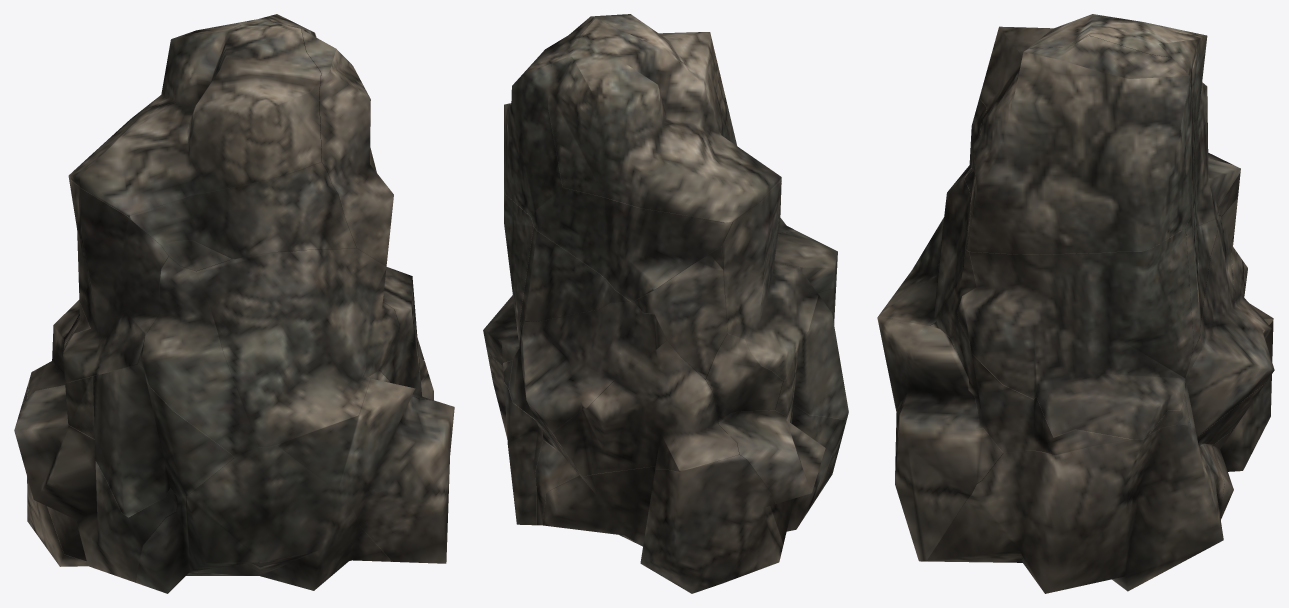
Rendered from Broke_Clif_rock_01.fbx.
The picture shows the model from 3 angles, left to right: view 1: azimuth 30°, elevation 25°; view 2: azimuth 150°, elevation 25°; view 3: azimuth 270°, elevation 25°; orthographic projection. The views are drawn at different scales.
Visible parts, largest first — view 1: Clif_rock_023, Clif_rock_029, Clif_rock_022, Clif_rock_011, Clif_rock_024, Clif_rock_015, Clif_rock_019, Clif_rock_032, Clif_rock_06, Clif_rock_010, Clif_rock_09, Clif_rock_012 (+4 smaller); view 2: Clif_rock_023, Clif_rock_018, Clif_rock_028, Clif_rock_021, Clif_rock_034, Clif_rock_019, Clif_rock_024, Clif_rock_010, Clif_rock_016, Clif_rock_025, Clif_rock_015, Clif_rock_031 (+4 smaller); view 3: Clif_rock_010, Clif_rock_030, Clif_rock_014, Clif_rock_011, Clif_rock_021, Clif_rock_023, Clif_rock_012, Clif_rock_029, Clif_rock_018, Clif_rock_034, Clif_rock_028, Clif_rock_025 (+3 smaller).
Boxes of the visible parts, left/top/right/bottom form: Clif_rock_023: left=69, top=17, right=321, bottom=215; Clif_rock_029: left=196, top=248, right=386, bottom=447; Clif_rock_022: left=136, top=445, right=391, bottom=593; Clif_rock_011: left=278, top=370, right=454, bottom=563; Clif_rock_024: left=14, top=385, right=178, bottom=582; Clif_rock_015: left=65, top=364, right=234, bottom=516; Clif_rock_019: left=63, top=182, right=168, bottom=383; Clif_rock_032: left=128, top=162, right=356, bottom=259; Clif_rock_06: left=138, top=256, right=257, bottom=457; Clif_rock_010: left=266, top=14, right=393, bottom=266; Clif_rock_09: left=363, top=268, right=399, bottom=378; Clif_rock_012: left=379, top=333, right=433, bottom=400; Clif_rock_023: left=548, top=17, right=781, bottom=222; Clif_rock_018: left=543, top=455, right=783, bottom=593; Clif_rock_028: left=539, top=340, right=739, bottom=476; Clif_rock_021: left=509, top=301, right=666, bottom=432; Clif_rock_034: left=531, top=187, right=732, bottom=301; Clif_rock_019: left=721, top=182, right=818, bottom=380; Clif_rock_024: left=718, top=405, right=846, bottom=544; Clif_rock_010: left=504, top=14, right=634, bottom=216; Clif_rock_016: left=633, top=244, right=727, bottom=379; Clif_rock_025: left=520, top=227, right=630, bottom=329; Clif_rock_015: left=775, top=289, right=848, bottom=419; Clif_rock_031: left=705, top=332, right=783, bottom=420; Clif_rock_010: left=966, top=36, right=1193, bottom=254; Clif_rock_030: left=957, top=228, right=1193, bottom=439; Clif_rock_014: left=927, top=425, right=1223, bottom=593; Clif_rock_011: left=877, top=316, right=1003, bottom=561; Clif_rock_021: left=1184, top=198, right=1274, bottom=437; Clif_rock_023: left=979, top=14, right=1207, bottom=163; Clif_rock_012: left=950, top=321, right=1184, bottom=454; Clif_rock_029: left=879, top=160, right=971, bottom=325; Clif_rock_018: left=1212, top=320, right=1273, bottom=519; Clif_rock_034: left=1185, top=117, right=1240, bottom=235; Clif_rock_028: left=1197, top=236, right=1273, bottom=445; Clif_rock_025: left=1186, top=217, right=1217, bottom=352.
Size of the model in its own units: 10.2 by 13.94 by 9.43.
1 material, 1 textured.
